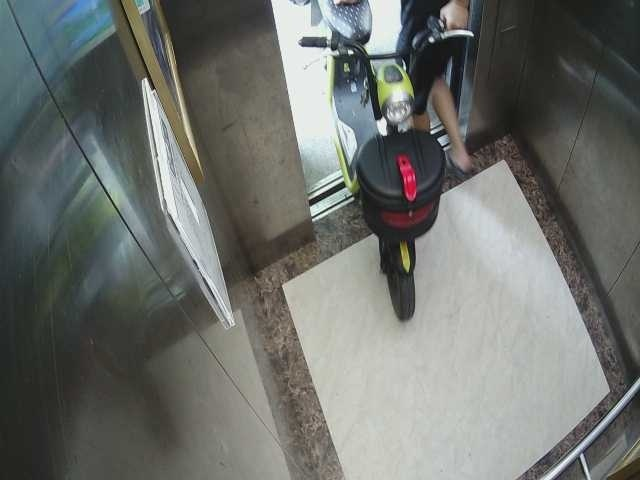emotor: (296, 4, 452, 324)
